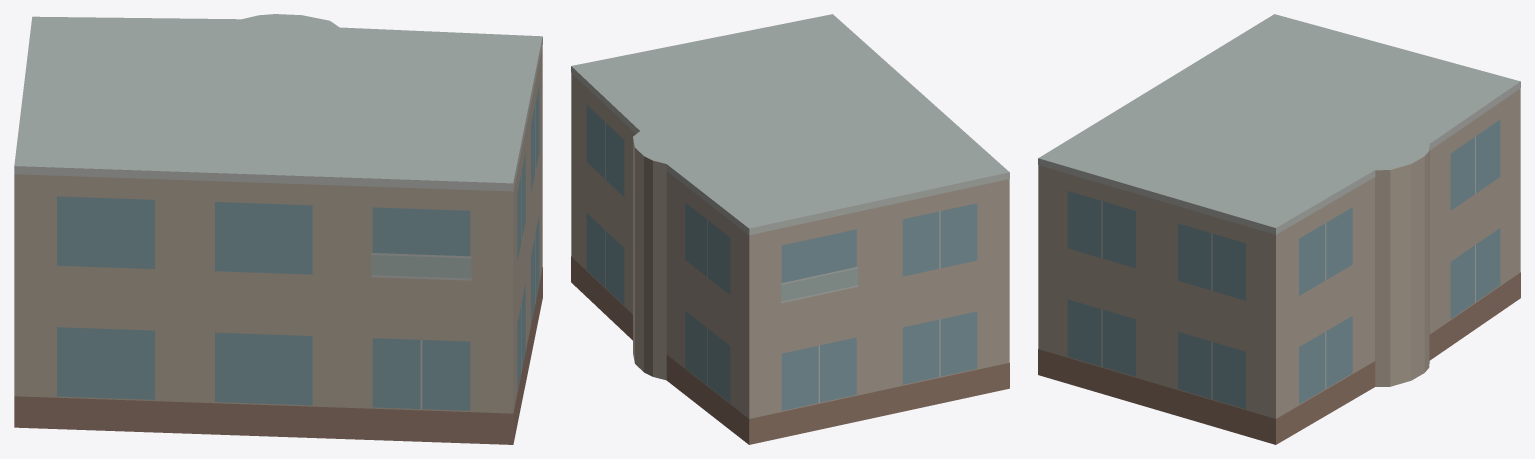
Rendered from survey-upis-32731728.glb.
3 renders of one model, left to right at view 1: azimuth 30°, elevation 25°; view 2: azimuth 150°, elevation 25°; view 3: azimuth 270°, elevation 25°, orthographic. The views are drawn at different scales.
Parts seen in each view (by area): view 1: survey-upis-32731728.tmp; view 2: survey-upis-32731728.tmp; view 3: survey-upis-32731728.tmp.
Boxes of the visible parts, x1=… form: survey-upis-32731728.tmp: x1=14, y1=14, x2=542, y2=444; survey-upis-32731728.tmp: x1=571, y1=14, x2=1009, y2=444; survey-upis-32731728.tmp: x1=1038, y1=14, x2=1520, y2=444.
Bounding box in the file's own units: 16.64 × 7.85 × 15.85.
